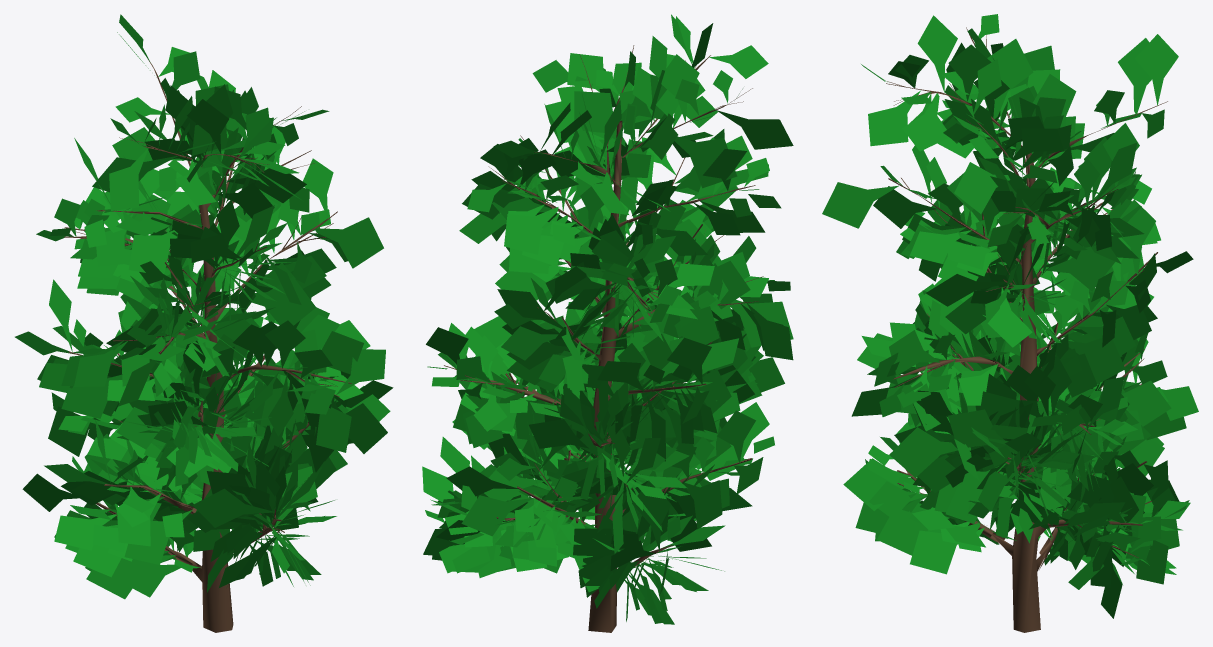
The model's file is model_tree.fbx.
3 views of the same model, side by side, from view 1: azimuth 30°, elevation 25°; view 2: azimuth 150°, elevation 25°; view 3: azimuth 270°, elevation 25° (orthographic).
Parts seen in each view (by area): view 1: Leaves, Trunk; view 2: Leaves, Trunk; view 3: Leaves, Trunk.
Part boxes in pixels (box(x1,y1,x2,y2)): Leaves: box(15, 14, 393, 599); Trunk: box(64, 60, 351, 632); Leaves: box(422, 14, 793, 624); Trunk: box(444, 45, 763, 632); Leaves: box(822, 14, 1198, 618); Trunk: box(886, 27, 1167, 632).
Size of the model in its own units: 785 by 1314 by 773.
